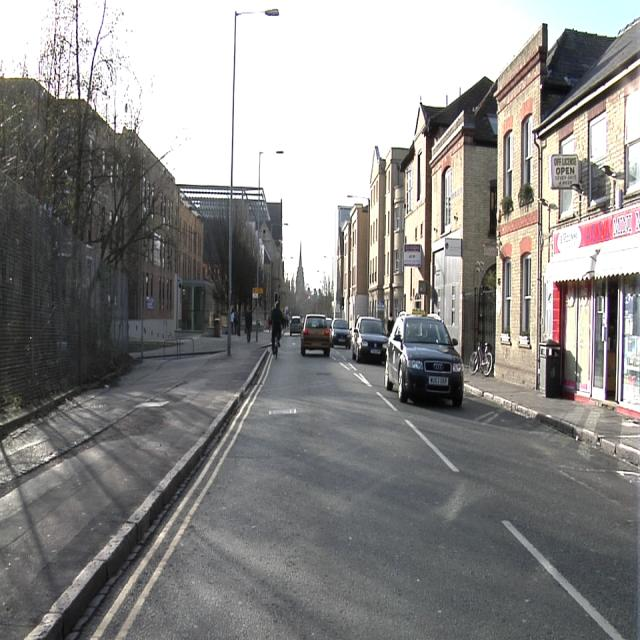Bicyclist: (270, 300, 283, 357), (270, 300, 282, 356)
Building: (335, 19, 635, 411), (233, 189, 284, 323)
Car: (386, 315, 463, 403), (352, 317, 387, 359), (302, 315, 331, 355), (332, 319, 351, 346), (290, 316, 302, 335)
Road: (73, 337, 639, 636)
Tree: (1, 77, 152, 265), (288, 245, 313, 314)
